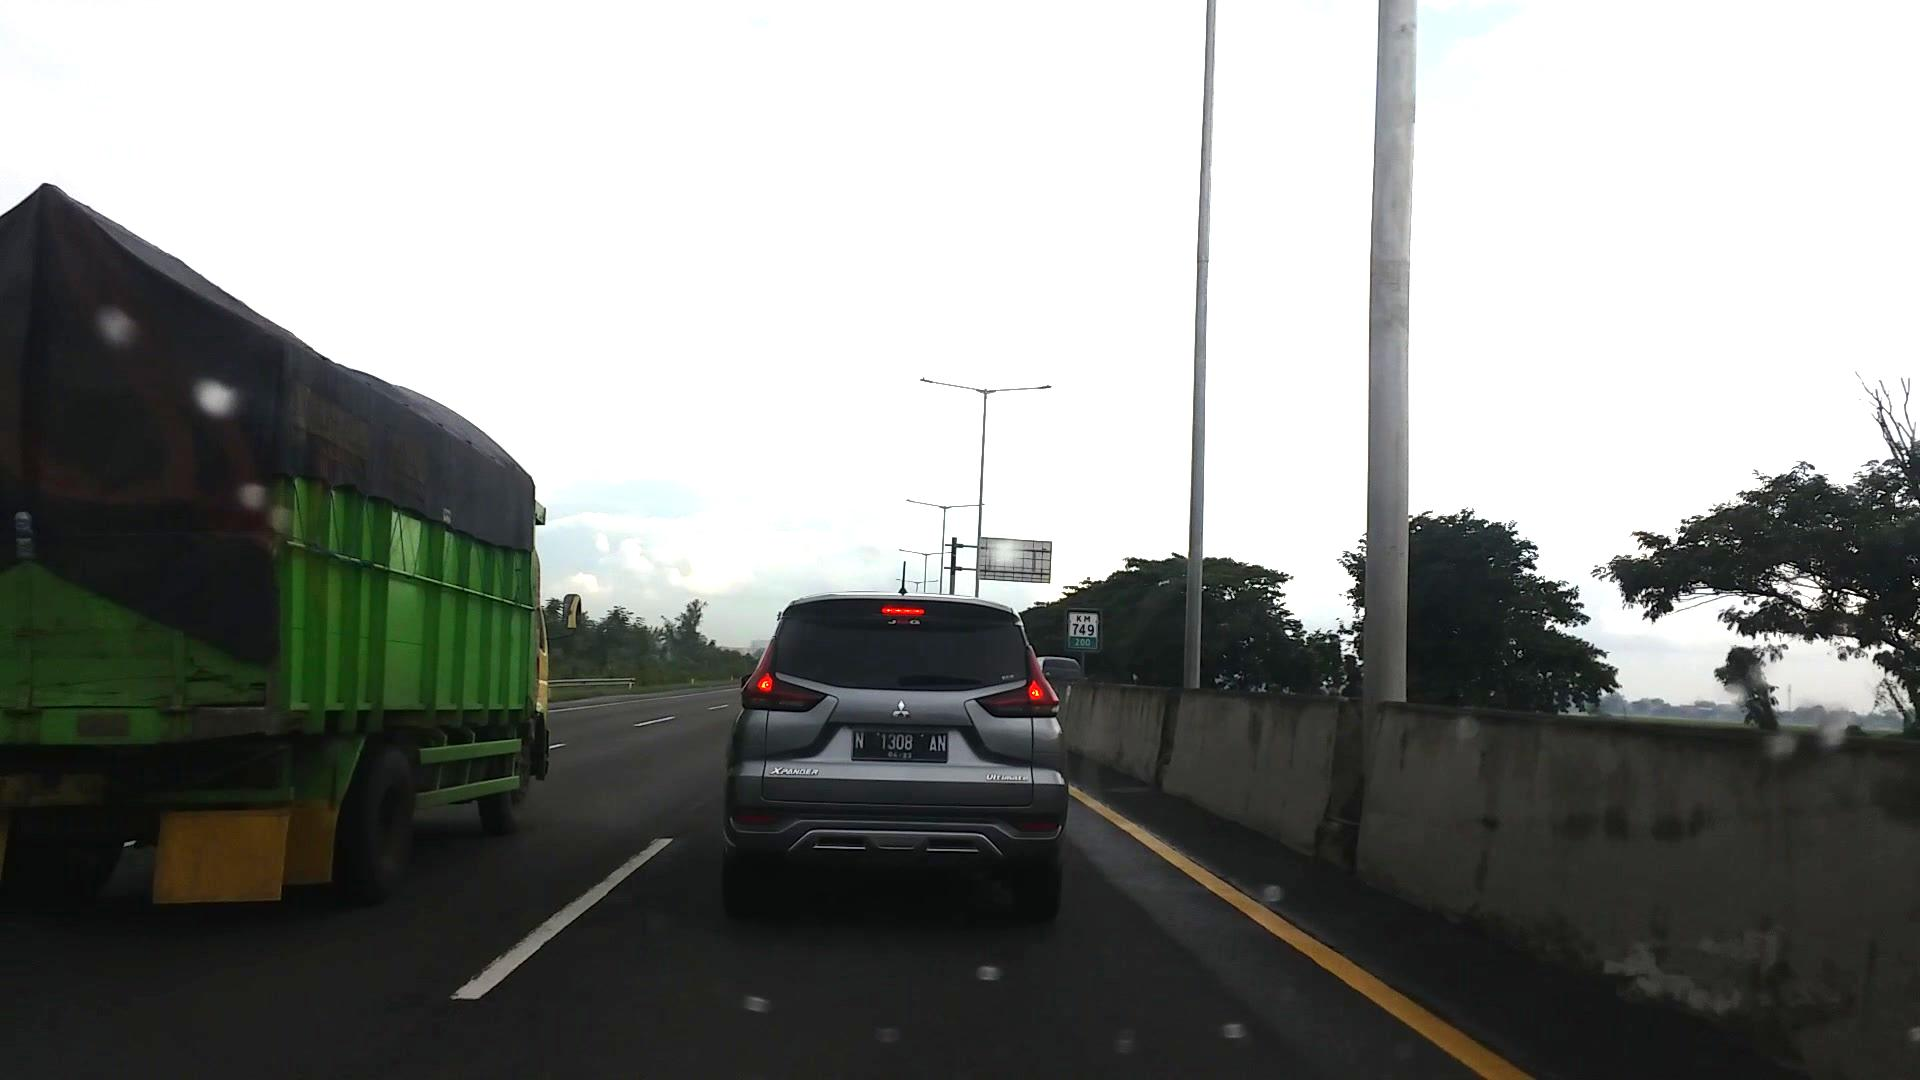plate_positive: (852, 727, 948, 764)
